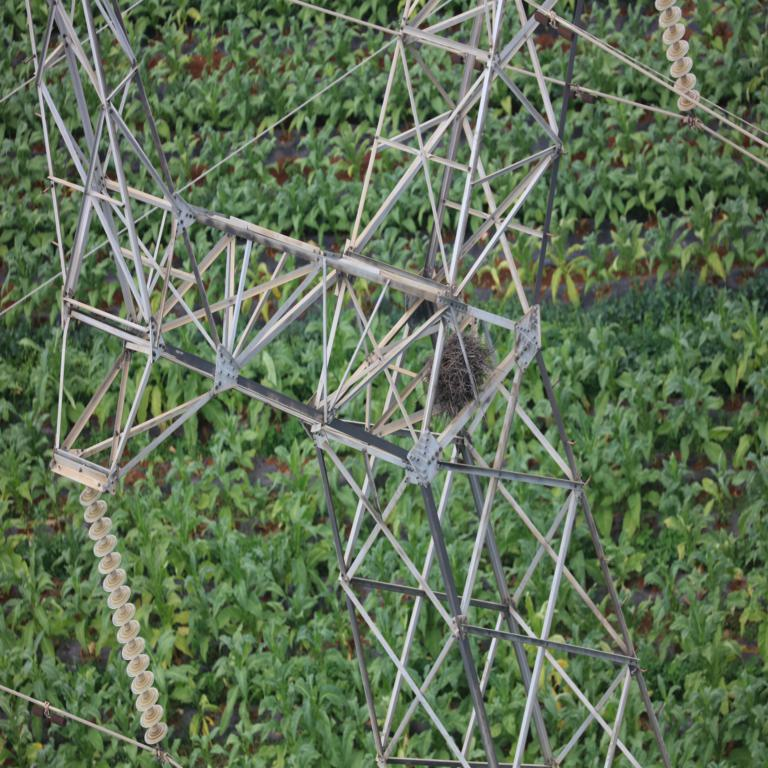nest: (427, 335, 486, 416)
